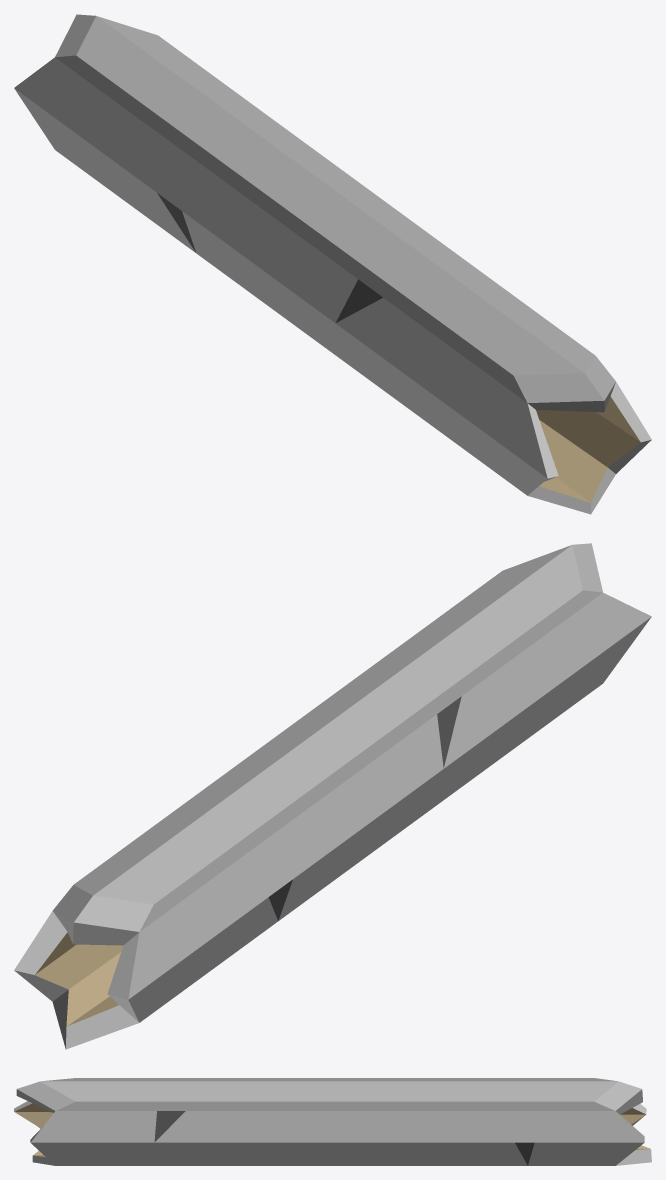
The model's file is Branch_4 Winter.fbx.
3 views of the same model, one above another, from view 1: azimuth 30°, elevation 25°; view 2: azimuth 150°, elevation 25°; view 3: azimuth 270°, elevation 25° (orthographic). The views are drawn at different scales.
Parts seen in each view (by area): view 1: Branch3Winter_mesh; view 2: Branch3Winter_mesh; view 3: Branch3Winter_mesh.
Boxes of the visible parts, left/top/right/bottom form: Branch3Winter_mesh: left=14, top=14, right=651, bottom=514; Branch3Winter_mesh: left=14, top=543, right=651, bottom=1049; Branch3Winter_mesh: left=14, top=1078, right=651, bottom=1165.
Size of the model in its own units: 34.54 by 38.17 by 273.
